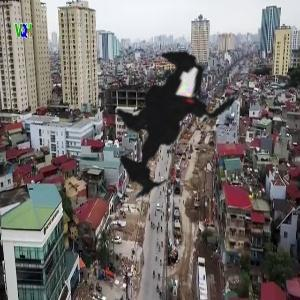drone: (61, 13, 291, 243)
